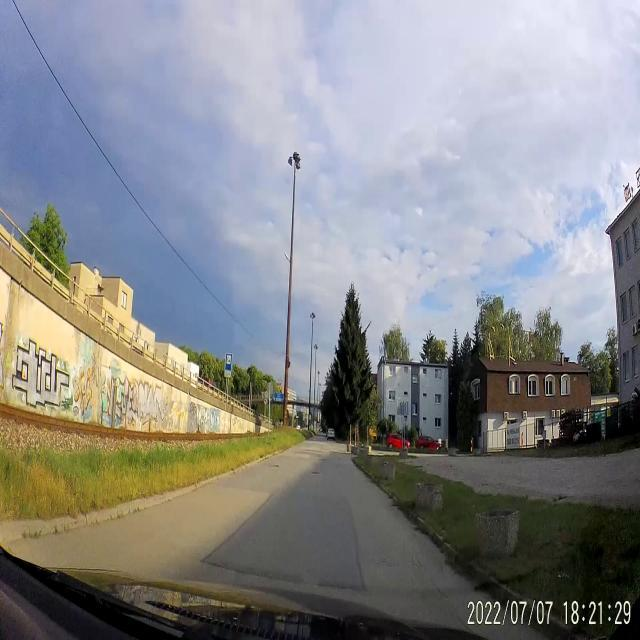Pothole: (305, 464, 321, 478)
